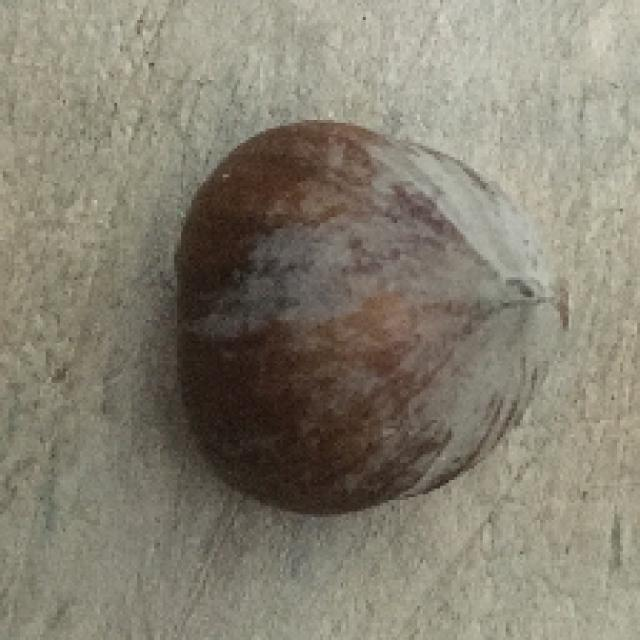qualityHazelnut: (169, 115, 579, 523)
